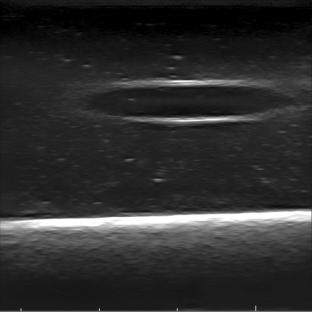vessel: (84, 78, 289, 125)
